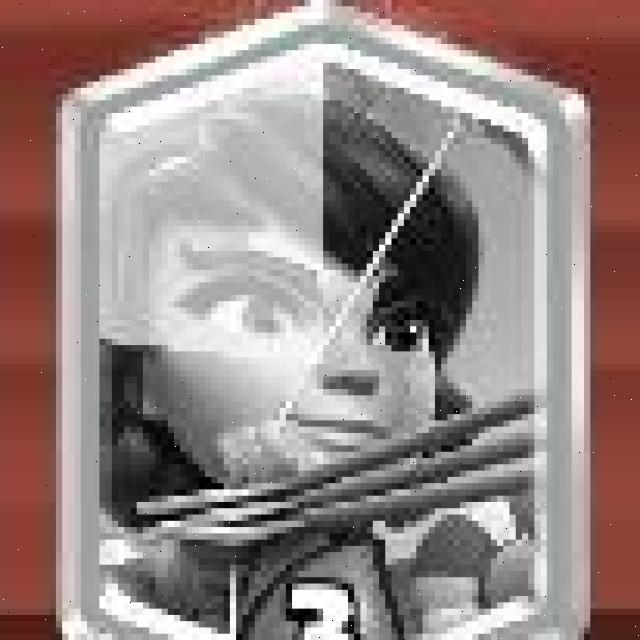Princess: (70, 6, 590, 640)
